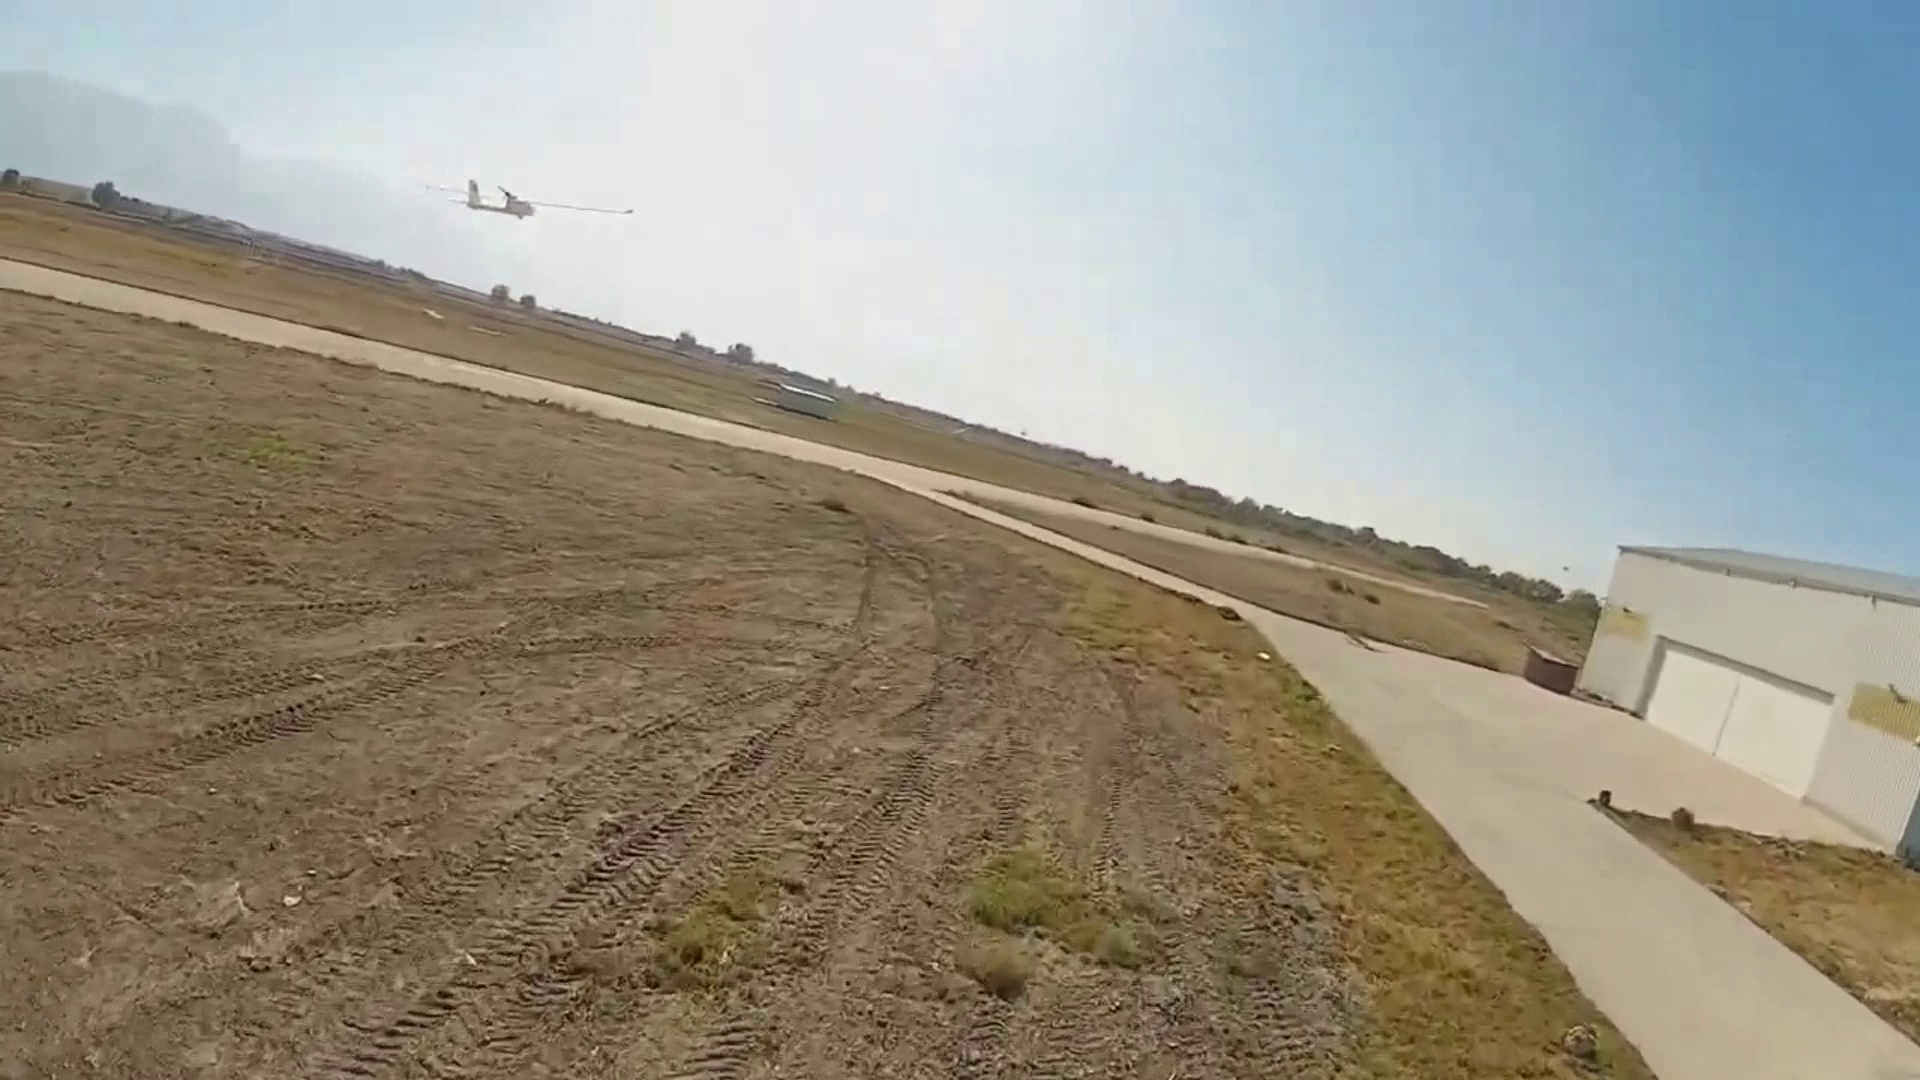airplane: (459, 176, 642, 223)
